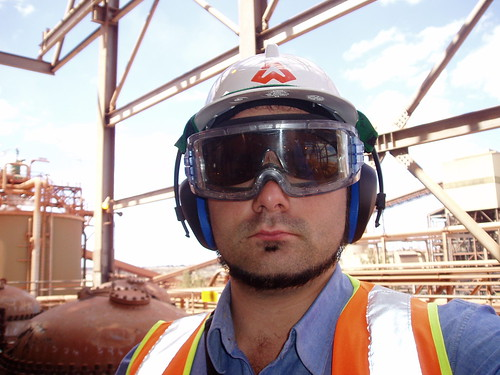person hardhat: (151, 42, 435, 375)
